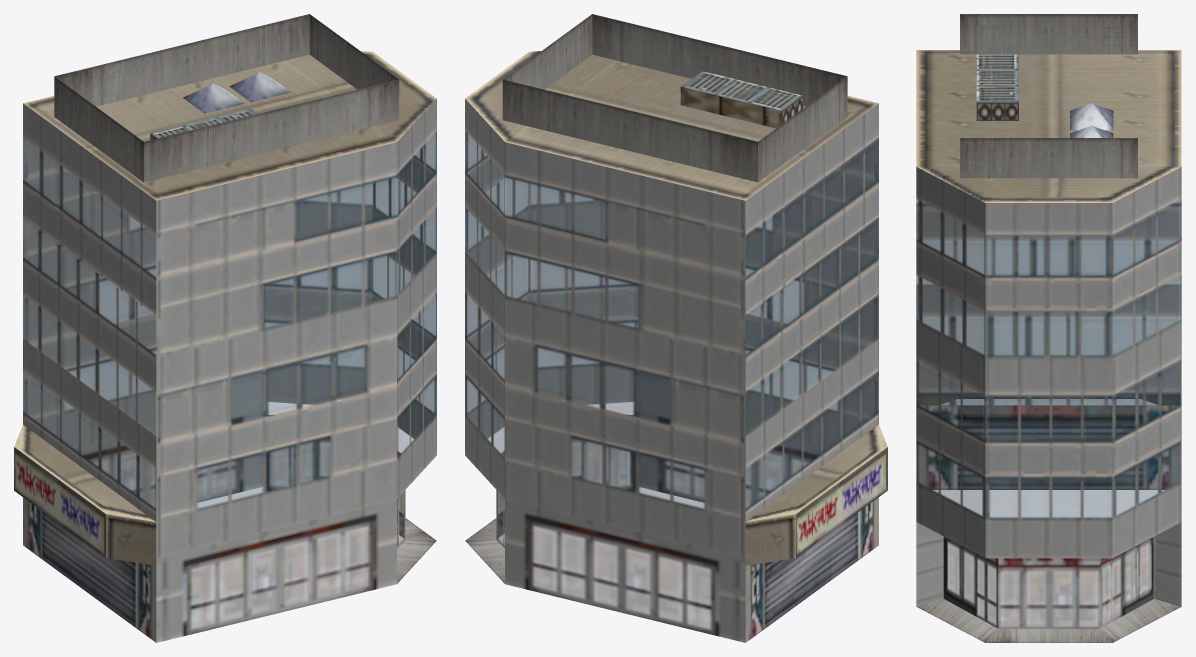
Rendered from Civilian - Civilian Building - Asian Office 01 - CBNOffice1.glb.
3 renders of one model, left to right at view 1: azimuth 30°, elevation 25°; view 2: azimuth 150°, elevation 25°; view 3: azimuth 270°, elevation 25°, orthographic.
Visible parts, largest first — view 1: CBNOFFICE1; view 2: CBNOFFICE1; view 3: CBNOFFICE1.
Boxes of the visible parts, x1,y1,x2,y2 form: CBNOFFICE1: (14, 14, 436, 642); CBNOFFICE1: (465, 14, 887, 642); CBNOFFICE1: (916, 14, 1181, 642).
Bounding box in the file's own units: 52.26 × 69.96 × 35.
1 material, 1 textured.
